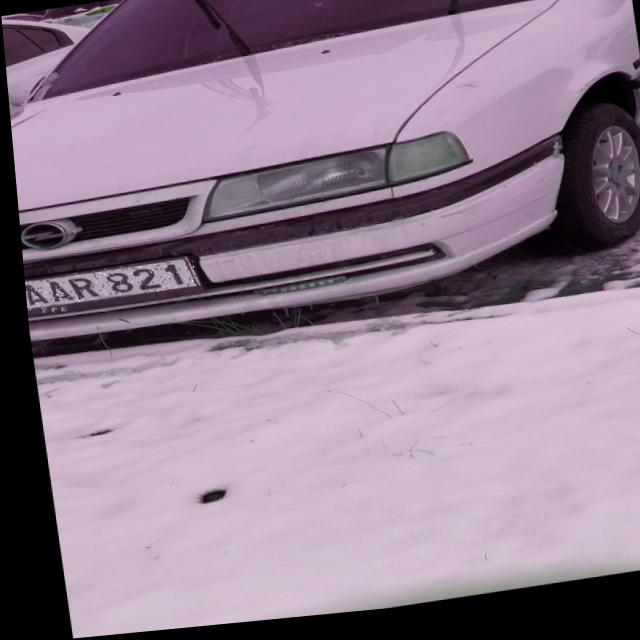license_plate: (19, 259, 194, 311)
